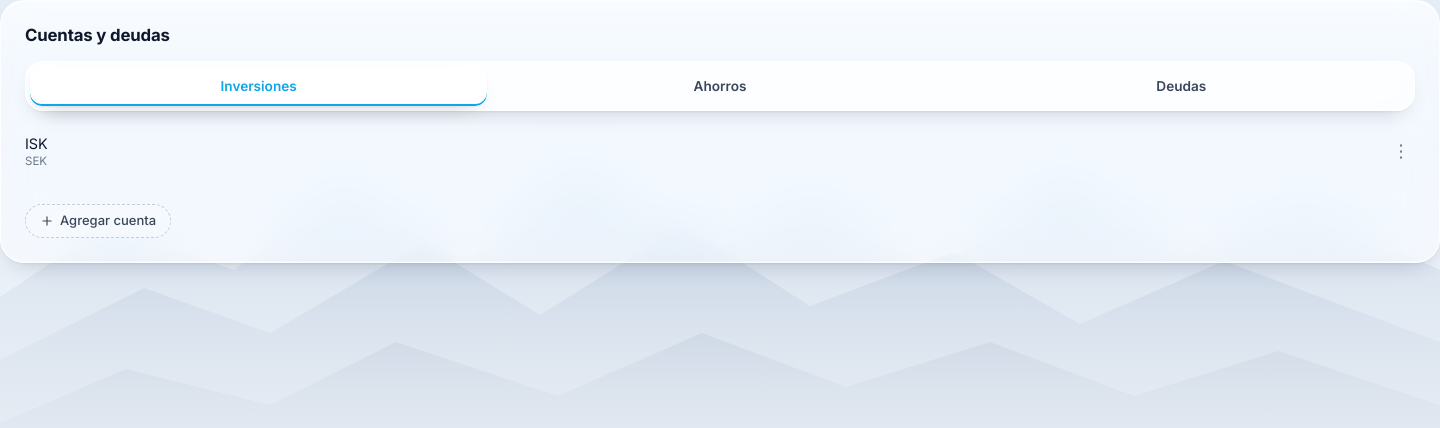
AccountsSettings in Spanish › names each domain's nouns with their own gender
Check: the heading "Cuentas y deudas" is shown, box x1=25 y1=25 x2=170 y2=45
Check: the text "Agregar cuenta" is shown, box x1=60 y1=213 x2=156 y2=229
Click the tab "Ahorros".
click(720, 86)  # box x1=491 y1=66 x2=949 y2=106
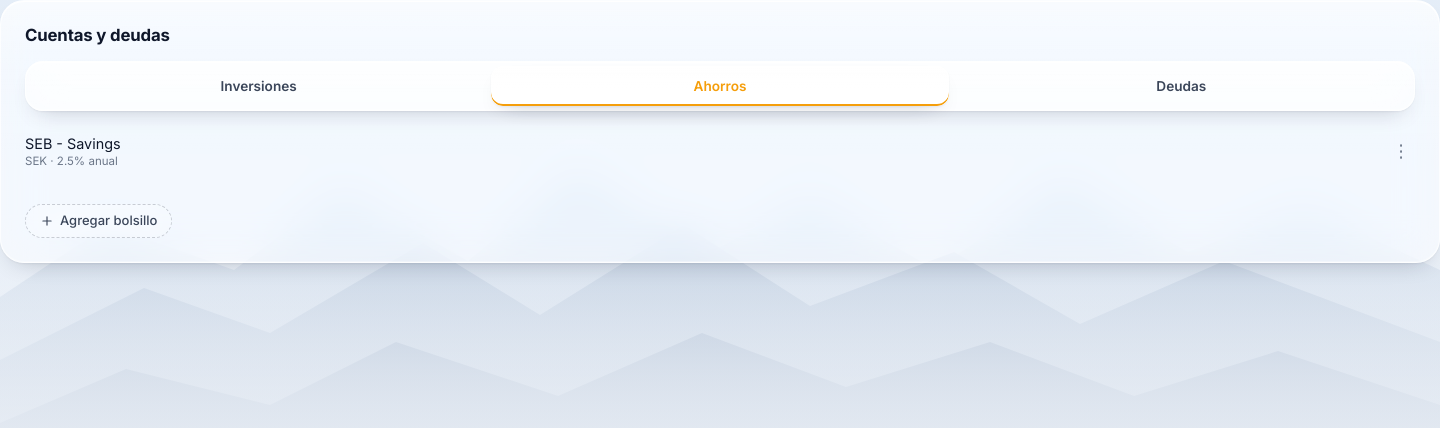
Check: the text "Agregar bolsillo" is shown, box x1=60 y1=213 x2=157 y2=229
